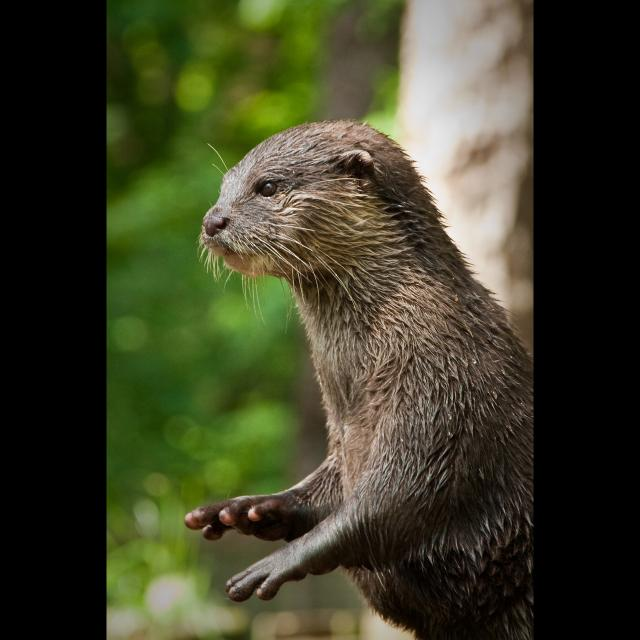otter: (187, 119, 538, 611)
